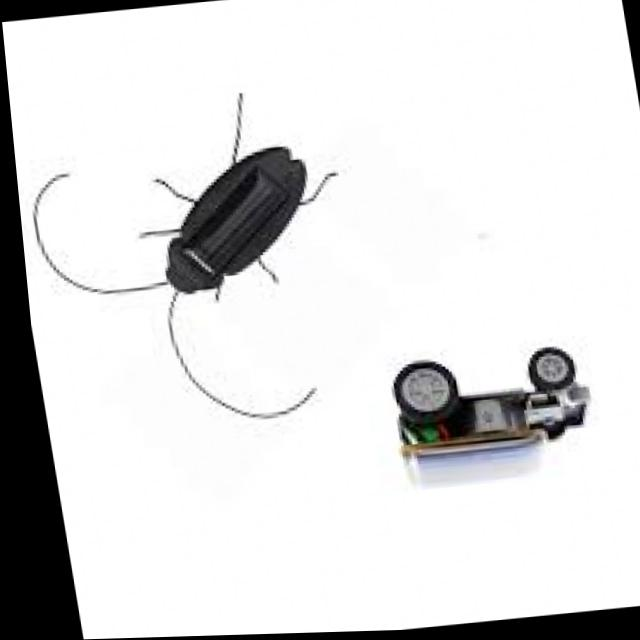Cockroach: (77, 107, 368, 367)
